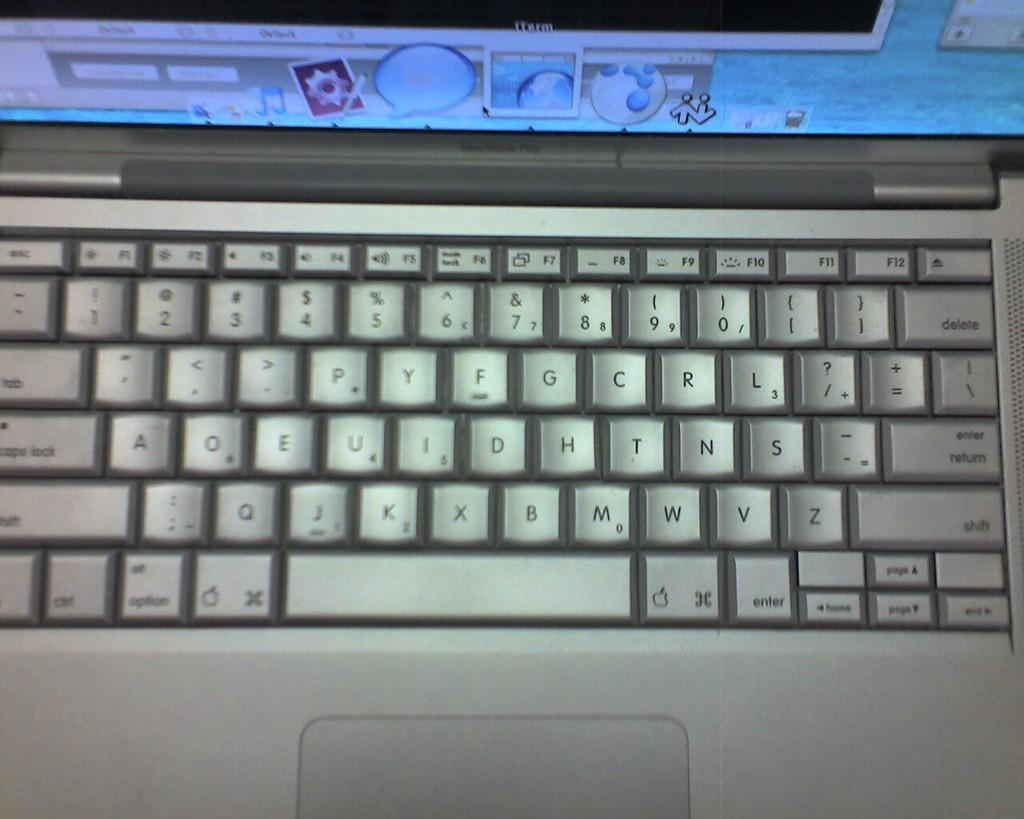Computer-keyboard: (0, 238, 1014, 636)
